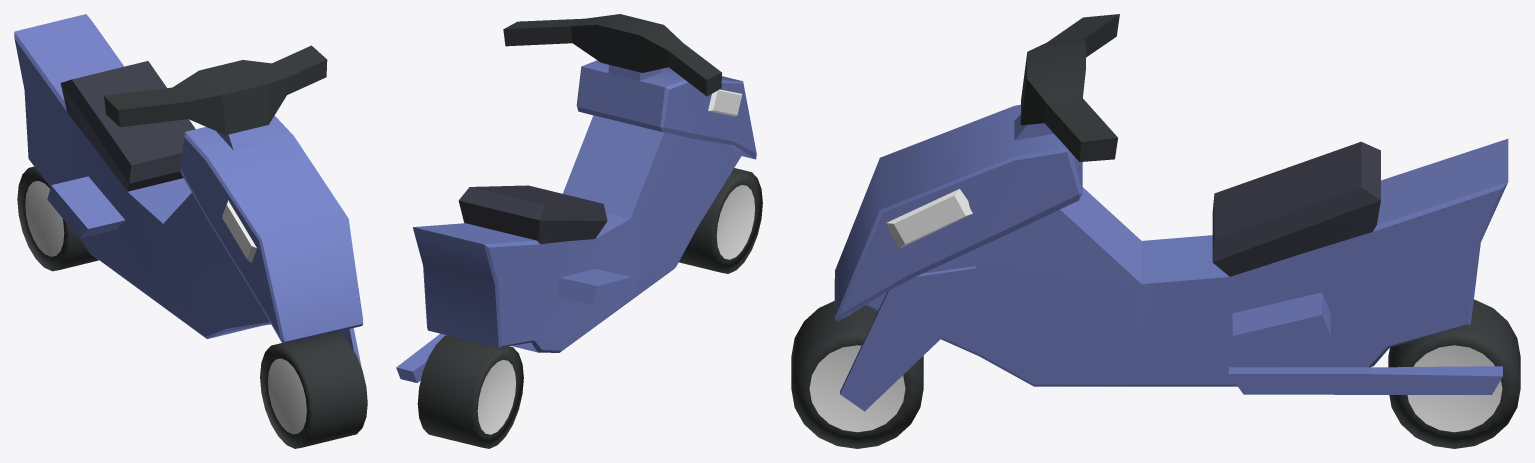
The model's file is motorcycle 1 blue.fbx.
The picture shows the model from 3 angles, left to right: view 1: azimuth 30°, elevation 25°; view 2: azimuth 150°, elevation 25°; view 3: azimuth 270°, elevation 25°; orthographic projection. The views are drawn at different scales.
Visible parts, largest first — view 1: motorcycle_1_blue; view 2: motorcycle_1_blue; view 3: motorcycle_1_blue.
Boxes of the visible parts, <box> form: motorcycle_1_blue: <box>14,14,367,448</box>; motorcycle_1_blue: <box>396,14,762,448</box>; motorcycle_1_blue: <box>791,14,1520,448</box>.
Bounding box in the file's own units: 47.17 × 66.04 × 116.
